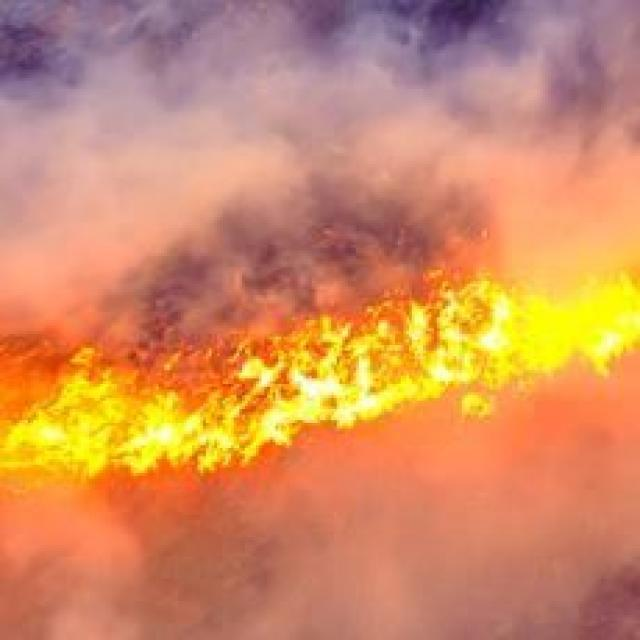Fire: (52, 347, 308, 464), (347, 300, 622, 383)
Smoke: (0, 27, 640, 273), (0, 471, 640, 640)
